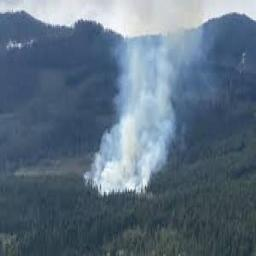Low smoke: (60, 1, 248, 202)
